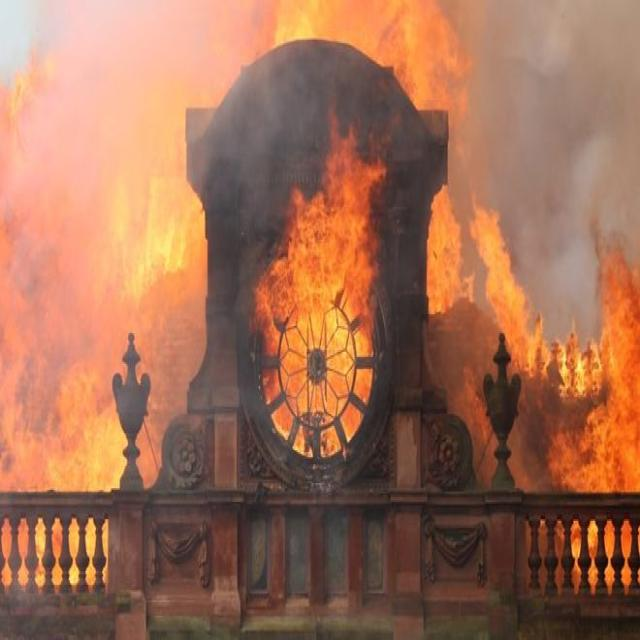fire: (283, 166, 382, 424), (570, 247, 639, 493), (315, 7, 446, 98), (431, 197, 510, 321)
smoke: (491, 37, 613, 184)
